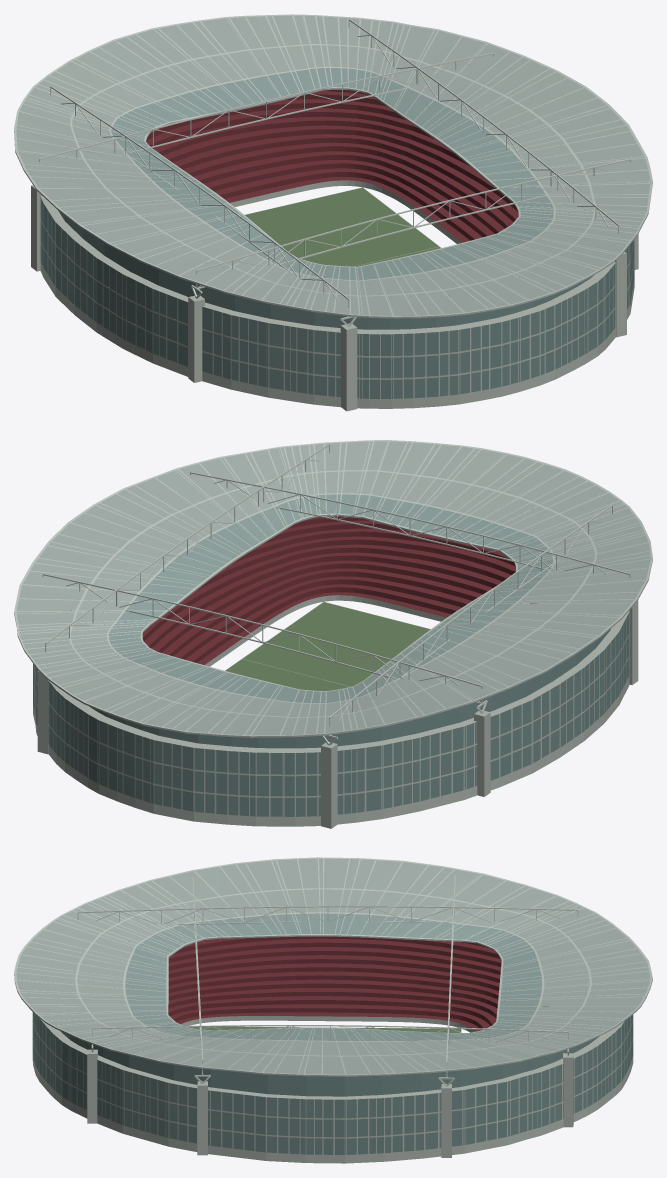
Rendered from emirates-stadium-near.glb.
3 views of the same model, one above another, from view 1: azimuth 30°, elevation 25°; view 2: azimuth 150°, elevation 25°; view 3: azimuth 270°, elevation 25° (orthographic). The views are drawn at different scales.
Parts seen in each view (by area): view 1: emirates-stadium-0-roof, emirates-stadium-0-glass, emirates-stadium-0-steel, emirates-stadium-0-seats, emirates-stadium-0-stone, emirates-stadium-0-roofglass, emirates-stadium-0-pitch; view 2: emirates-stadium-0-roof, emirates-stadium-0-glass, emirates-stadium-0-steel, emirates-stadium-0-seats, emirates-stadium-0-stone, emirates-stadium-0-roofglass, emirates-stadium-0-pitch; view 3: emirates-stadium-0-roof, emirates-stadium-0-glass, emirates-stadium-0-seats, emirates-stadium-0-steel, emirates-stadium-0-stone, emirates-stadium-0-roofglass, emirates-stadium-0-pitch.
Boxes of the visible parts, x1,y1,x2,y2 form: emirates-stadium-0-roof: [14, 15, 652, 318]; emirates-stadium-0-glass: [40, 197, 634, 398]; emirates-stadium-0-steel: [14, 14, 652, 326]; emirates-stadium-0-seats: [144, 89, 584, 263]; emirates-stadium-0-stone: [31, 180, 638, 411]; emirates-stadium-0-roofglass: [111, 67, 553, 280]; emirates-stadium-0-pitch: [245, 187, 449, 296]; emirates-stadium-0-roof: [14, 441, 652, 737]; emirates-stadium-0-glass: [33, 613, 628, 816]; emirates-stadium-0-steel: [14, 440, 652, 745]; emirates-stadium-0-seats: [71, 508, 537, 664]; emirates-stadium-0-stone: [33, 595, 638, 828]; emirates-stadium-0-roofglass: [108, 494, 553, 703]; emirates-stadium-0-pitch: [225, 602, 430, 690]; emirates-stadium-0-roof: [14, 858, 652, 1076]; emirates-stadium-0-glass: [32, 1012, 633, 1154]; emirates-stadium-0-seats: [160, 936, 548, 1031]; emirates-stadium-0-steel: [14, 857, 652, 1086]; emirates-stadium-0-stone: [32, 1012, 633, 1163]; emirates-stadium-0-roofglass: [125, 913, 541, 1040]; emirates-stadium-0-pitch: [189, 1026, 460, 1032].
Bounding box in the file's own units: 198 × 41.5 × 245.
